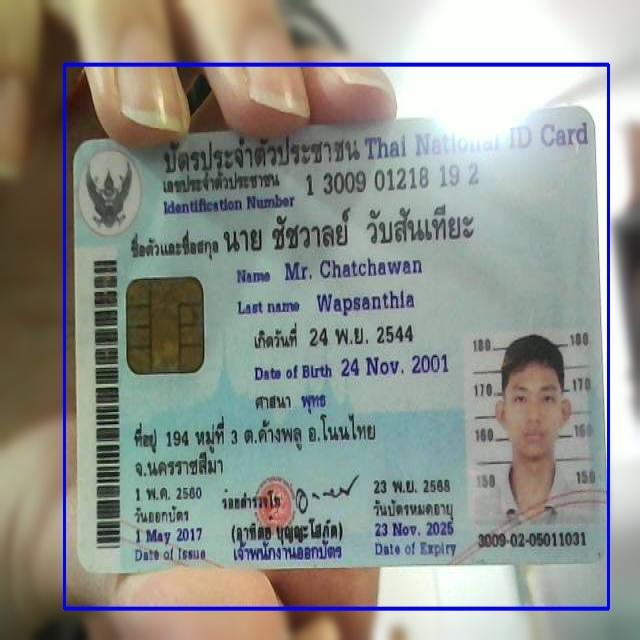Address_th: (132, 412, 384, 482)
Date_of_Birth: (338, 351, 452, 381)
Date_of_Expiry: (369, 518, 458, 543)
Date_of_Issue: (132, 519, 210, 547)
First_Name: (283, 256, 425, 284)
ID_Number: (303, 160, 482, 200)
Image: (463, 328, 598, 525)
Last_Name: (315, 288, 422, 318)
Thai_Name: (220, 203, 489, 257)
